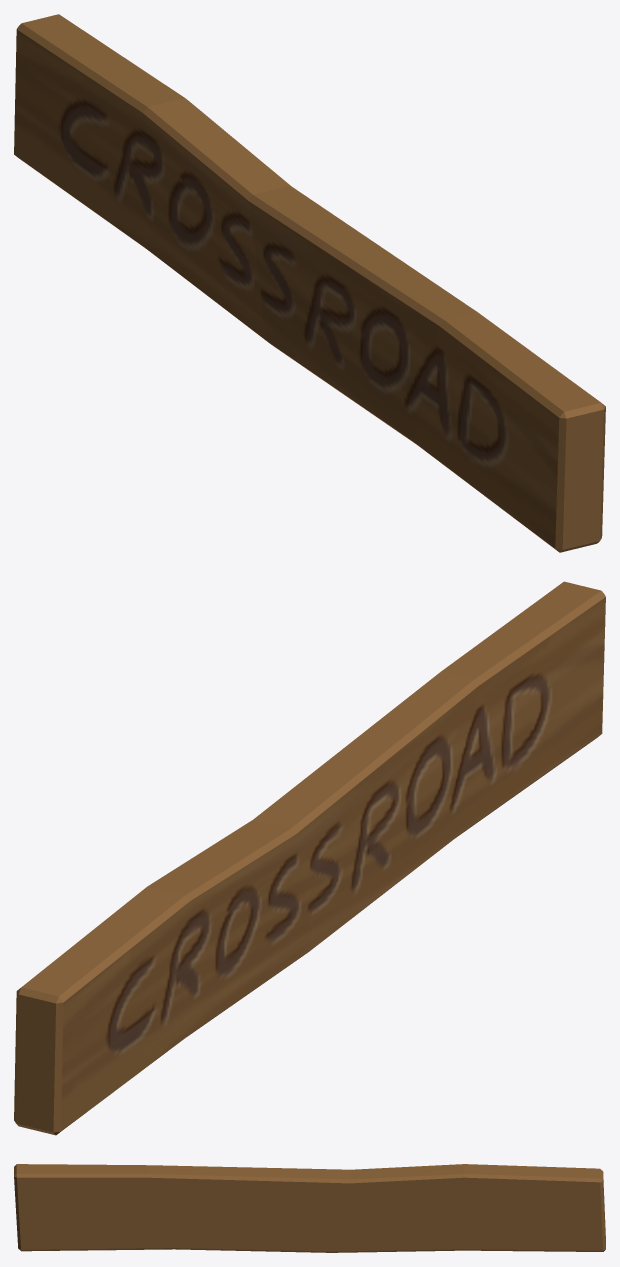
The model's file is 3D_panel_crossroad.fbx.
3 renders of one model, top to bottom at view 1: azimuth 30°, elevation 25°; view 2: azimuth 150°, elevation 25°; view 3: azimuth 270°, elevation 25°, orthographic. The views are drawn at different scales.
Parts seen in each view (by area): view 1: Panel Name; view 2: Panel Name; view 3: Panel Name.
Part boxes in pixels (<box>): Panel Name: <box>14,14,605,552</box>; Panel Name: <box>14,581,605,1135</box>; Panel Name: <box>14,1164,605,1252</box>.
Bounding box in the file's own units: 0.2 × 0.6 × 4.07.
